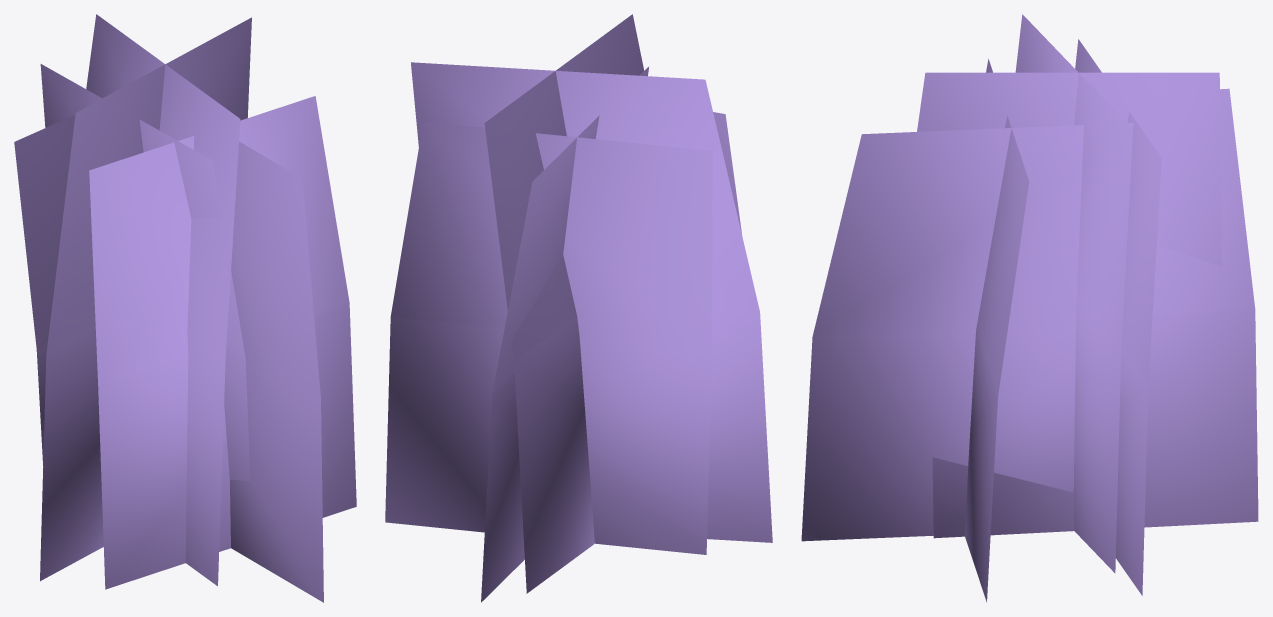
The model's file is flowers_4.glb.
3 views of the same model, side by side, from view 1: azimuth 30°, elevation 25°; view 2: azimuth 150°, elevation 25°; view 3: azimuth 270°, elevation 25° (orthographic). The views are drawn at different scales.
Visible parts, largest first — view 1: flowers_4; view 2: flowers_4; view 3: flowers_4.
Part boxes in pixels (x1=…): flowers_4: x1=14, y1=14, x2=356, y2=602; flowers_4: x1=385, y1=14, x2=772, y2=602; flowers_4: x1=801, y1=14, x2=1258, y2=602.
Bounding box in the file's own units: 0.6825 × 0.9246 × 0.8382.
